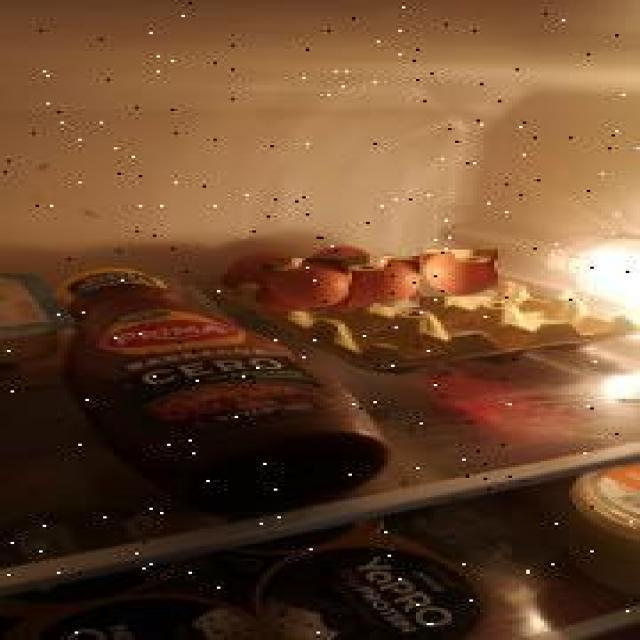egg: (263, 258, 356, 312), (420, 250, 498, 298), (348, 256, 419, 307), (222, 250, 300, 290)
